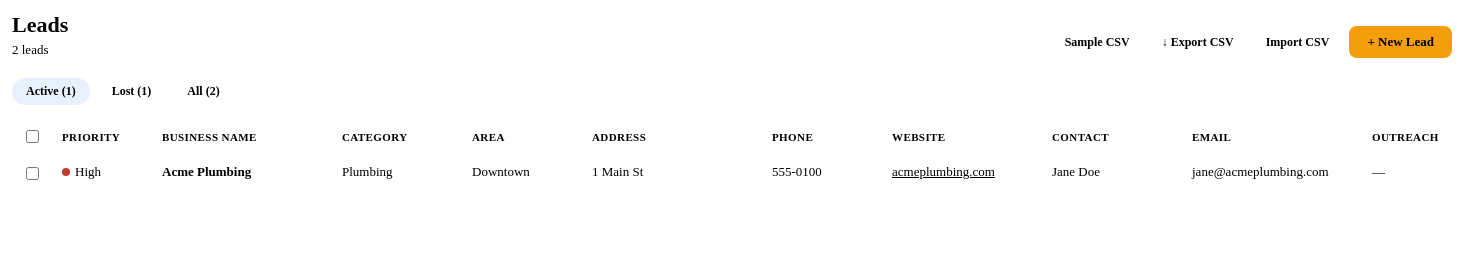
Test: the All tab shows every lead regardless of stage
The width and height of the screenshot is (1464, 262).
Check: the text "Acme Plumbing" is shown, box [152, 155, 332, 200]
Step 1. Click the button "All (2)" → (203, 92), box [173, 78, 234, 105]
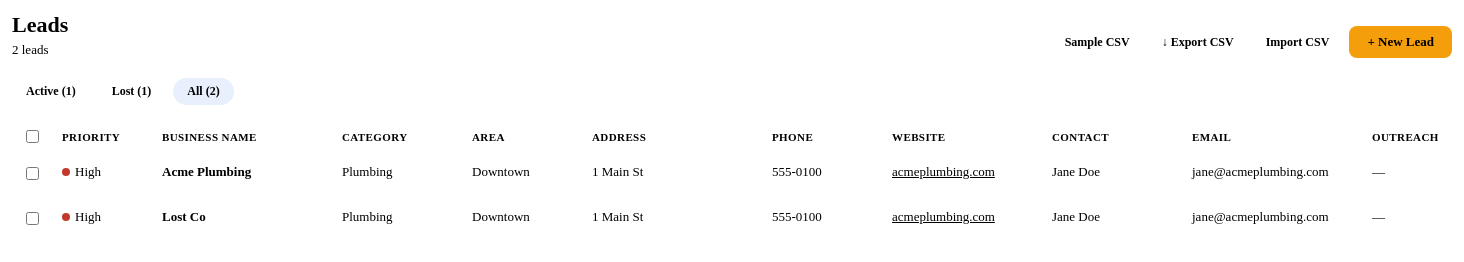
Check: the text "Acme Plumbing" is shown, box [152, 155, 332, 200]
Check: the text "Lost Co" is shown, box [152, 200, 332, 245]
